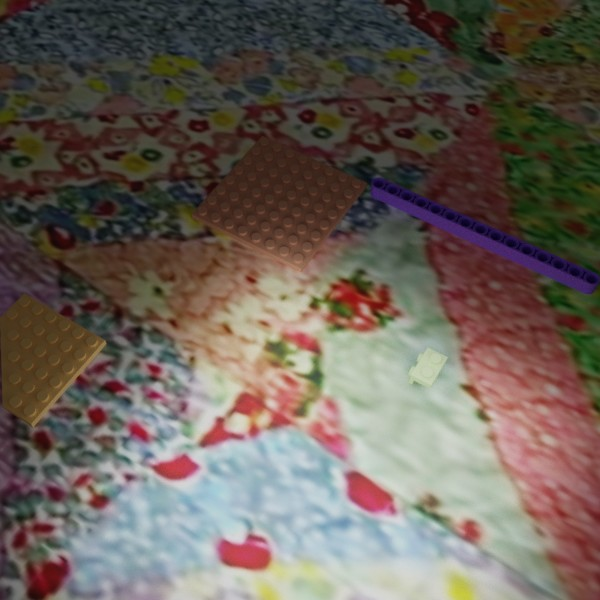lego: (370, 177, 600, 294), (191, 135, 366, 272), (0, 293, 106, 427), (408, 347, 447, 388)
